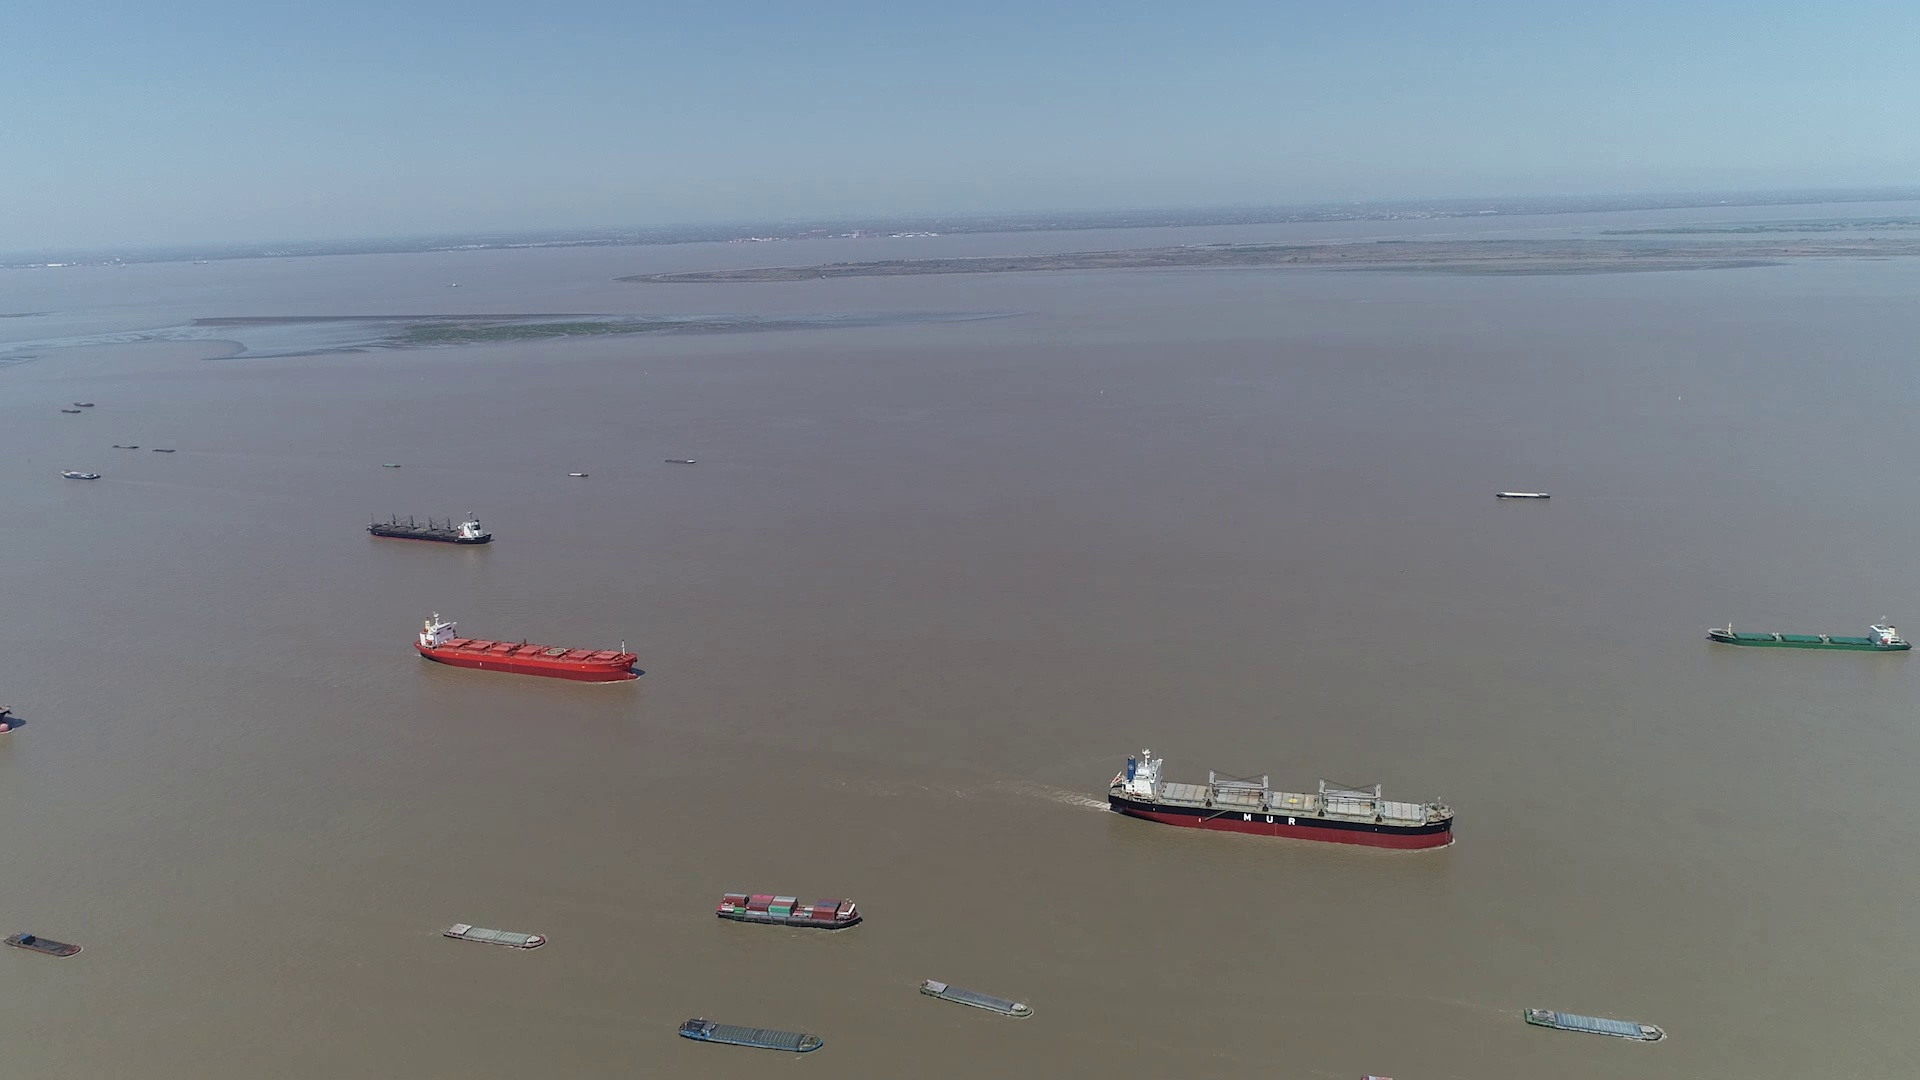ship: (1105, 750, 1458, 848), (413, 613, 640, 680), (1710, 621, 1911, 651), (716, 891, 862, 931), (678, 1018, 822, 1054), (1524, 1007, 1665, 1042), (922, 978, 1033, 1021), (367, 512, 493, 545), (444, 922, 545, 949), (7, 931, 80, 956), (1495, 489, 1552, 498), (61, 468, 100, 481), (665, 458, 698, 465)
